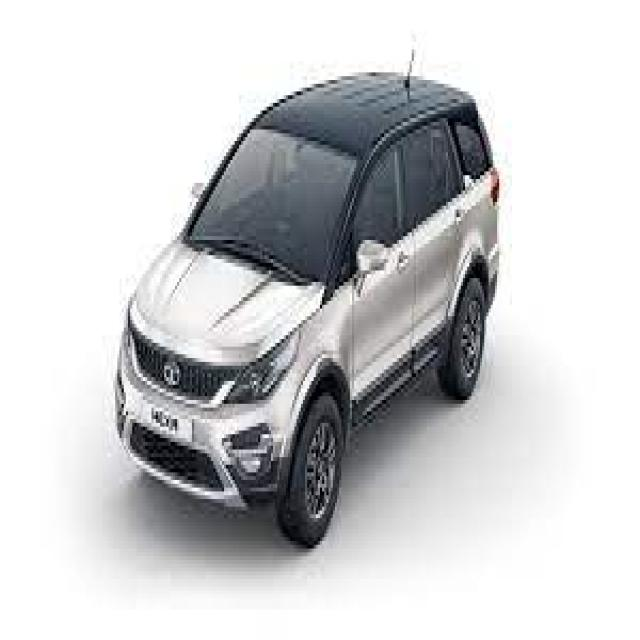SUV: (107, 69, 500, 539)
